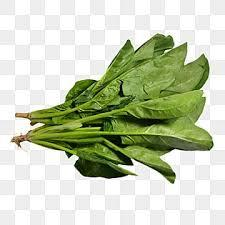non-mango: (10, 32, 213, 183)
